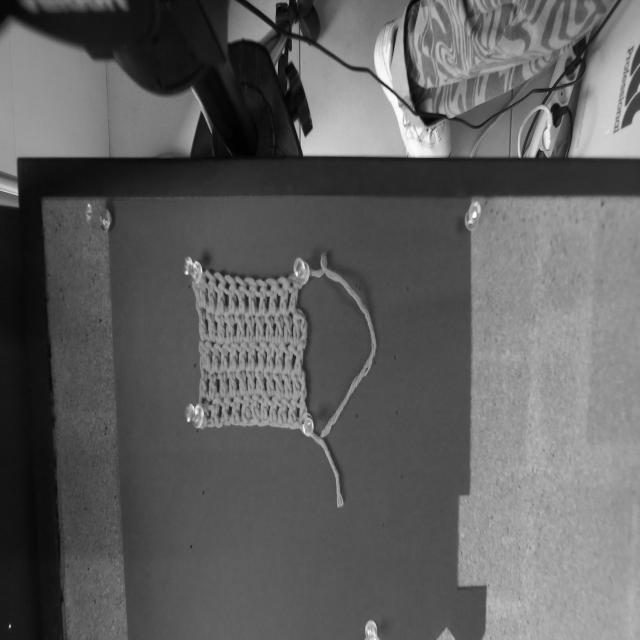ch: (243, 416, 256, 426), (210, 420, 222, 428), (228, 417, 239, 425), (235, 418, 245, 426), (253, 418, 262, 426), (289, 422, 299, 429), (220, 419, 230, 426), (278, 422, 289, 428), (268, 421, 277, 427), (261, 419, 269, 425)
dc: (243, 277, 258, 316), (265, 277, 279, 317), (276, 276, 290, 316), (195, 299, 208, 340), (288, 274, 301, 314), (204, 271, 216, 314), (224, 275, 237, 314), (193, 273, 207, 309), (214, 274, 226, 315), (234, 275, 246, 316), (274, 334, 286, 374), (255, 279, 267, 317), (206, 301, 217, 342), (284, 336, 295, 376), (215, 305, 226, 345), (234, 305, 245, 345), (293, 336, 303, 377), (282, 308, 293, 345), (201, 335, 211, 373), (272, 366, 283, 400), (290, 367, 301, 401), (224, 308, 234, 345), (264, 363, 275, 396), (226, 365, 237, 398), (228, 334, 238, 370), (265, 336, 275, 372), (217, 366, 228, 398), (211, 335, 220, 374), (256, 338, 266, 373), (250, 389, 261, 420), (282, 370, 293, 401), (237, 334, 246, 371), (245, 307, 254, 344), (254, 307, 263, 344), (274, 308, 283, 345), (209, 393, 220, 423), (255, 362, 265, 395), (259, 392, 271, 419), (269, 391, 279, 423), (236, 364, 246, 396), (277, 394, 288, 423), (265, 310, 274, 344), (241, 391, 251, 420), (246, 363, 255, 395), (247, 338, 256, 370), (231, 390, 241, 418), (293, 309, 300, 349), (287, 393, 296, 424), (220, 337, 228, 371), (221, 392, 230, 422), (209, 368, 217, 400)
